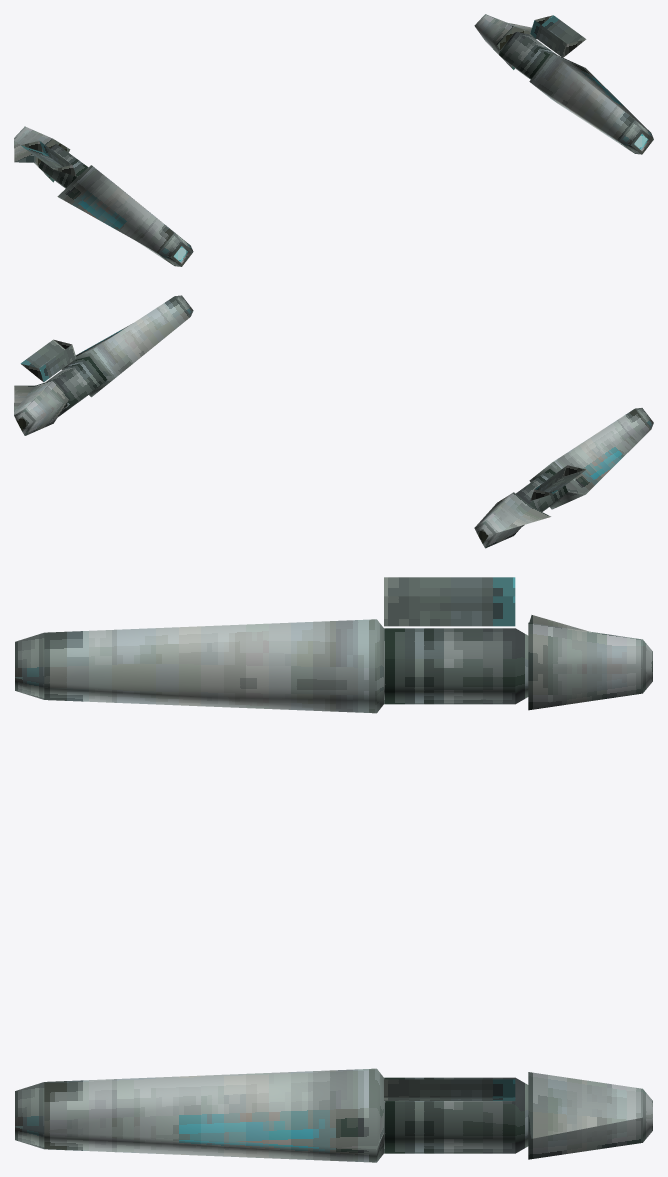
The model's file is black_sun_fighter_heavy_weapon3_s02_l2.fbx.
The picture shows the model from 3 angles, top to bottom: view 1: azimuth 30°, elevation 25°; view 2: azimuth 150°, elevation 25°; view 3: azimuth 270°, elevation 25°; orthographic projection. The views are drawn at different scales.
Visible parts, largest first — view 1: mesh_node; view 2: mesh_node; view 3: mesh_node.
Part boxes in pixels (x1,y1,x2,y2): mesh_node: (14,14,653,266); mesh_node: (14,295,653,548); mesh_node: (15,577,652,1162).
Size of the model in its own units: 13.93 by 1.25 by 7.17.
1 material, 1 textured.
